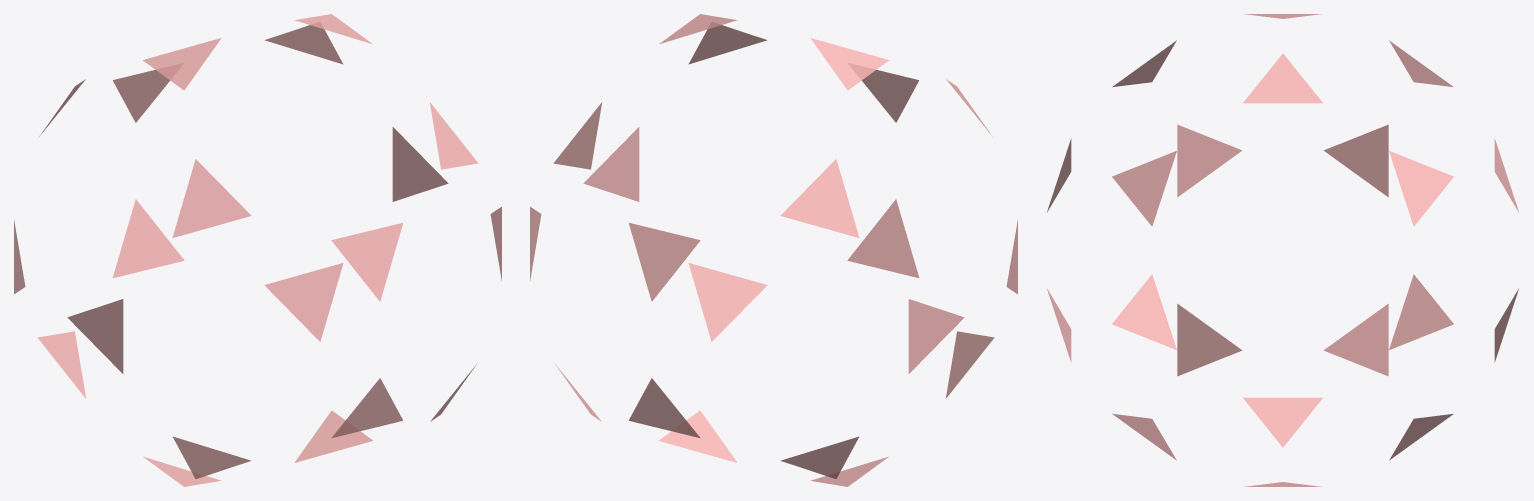
File: TruncatedDodecahedronA.obj
3 views of the same model, side by side, from view 1: azimuth 30°, elevation 25°; view 2: azimuth 150°, elevation 25°; view 3: azimuth 270°, elevation 25° (orthographic). The views are drawn at different scales.
Bounding box in the file's own units: 5.85 × 5.85 × 5.85.
